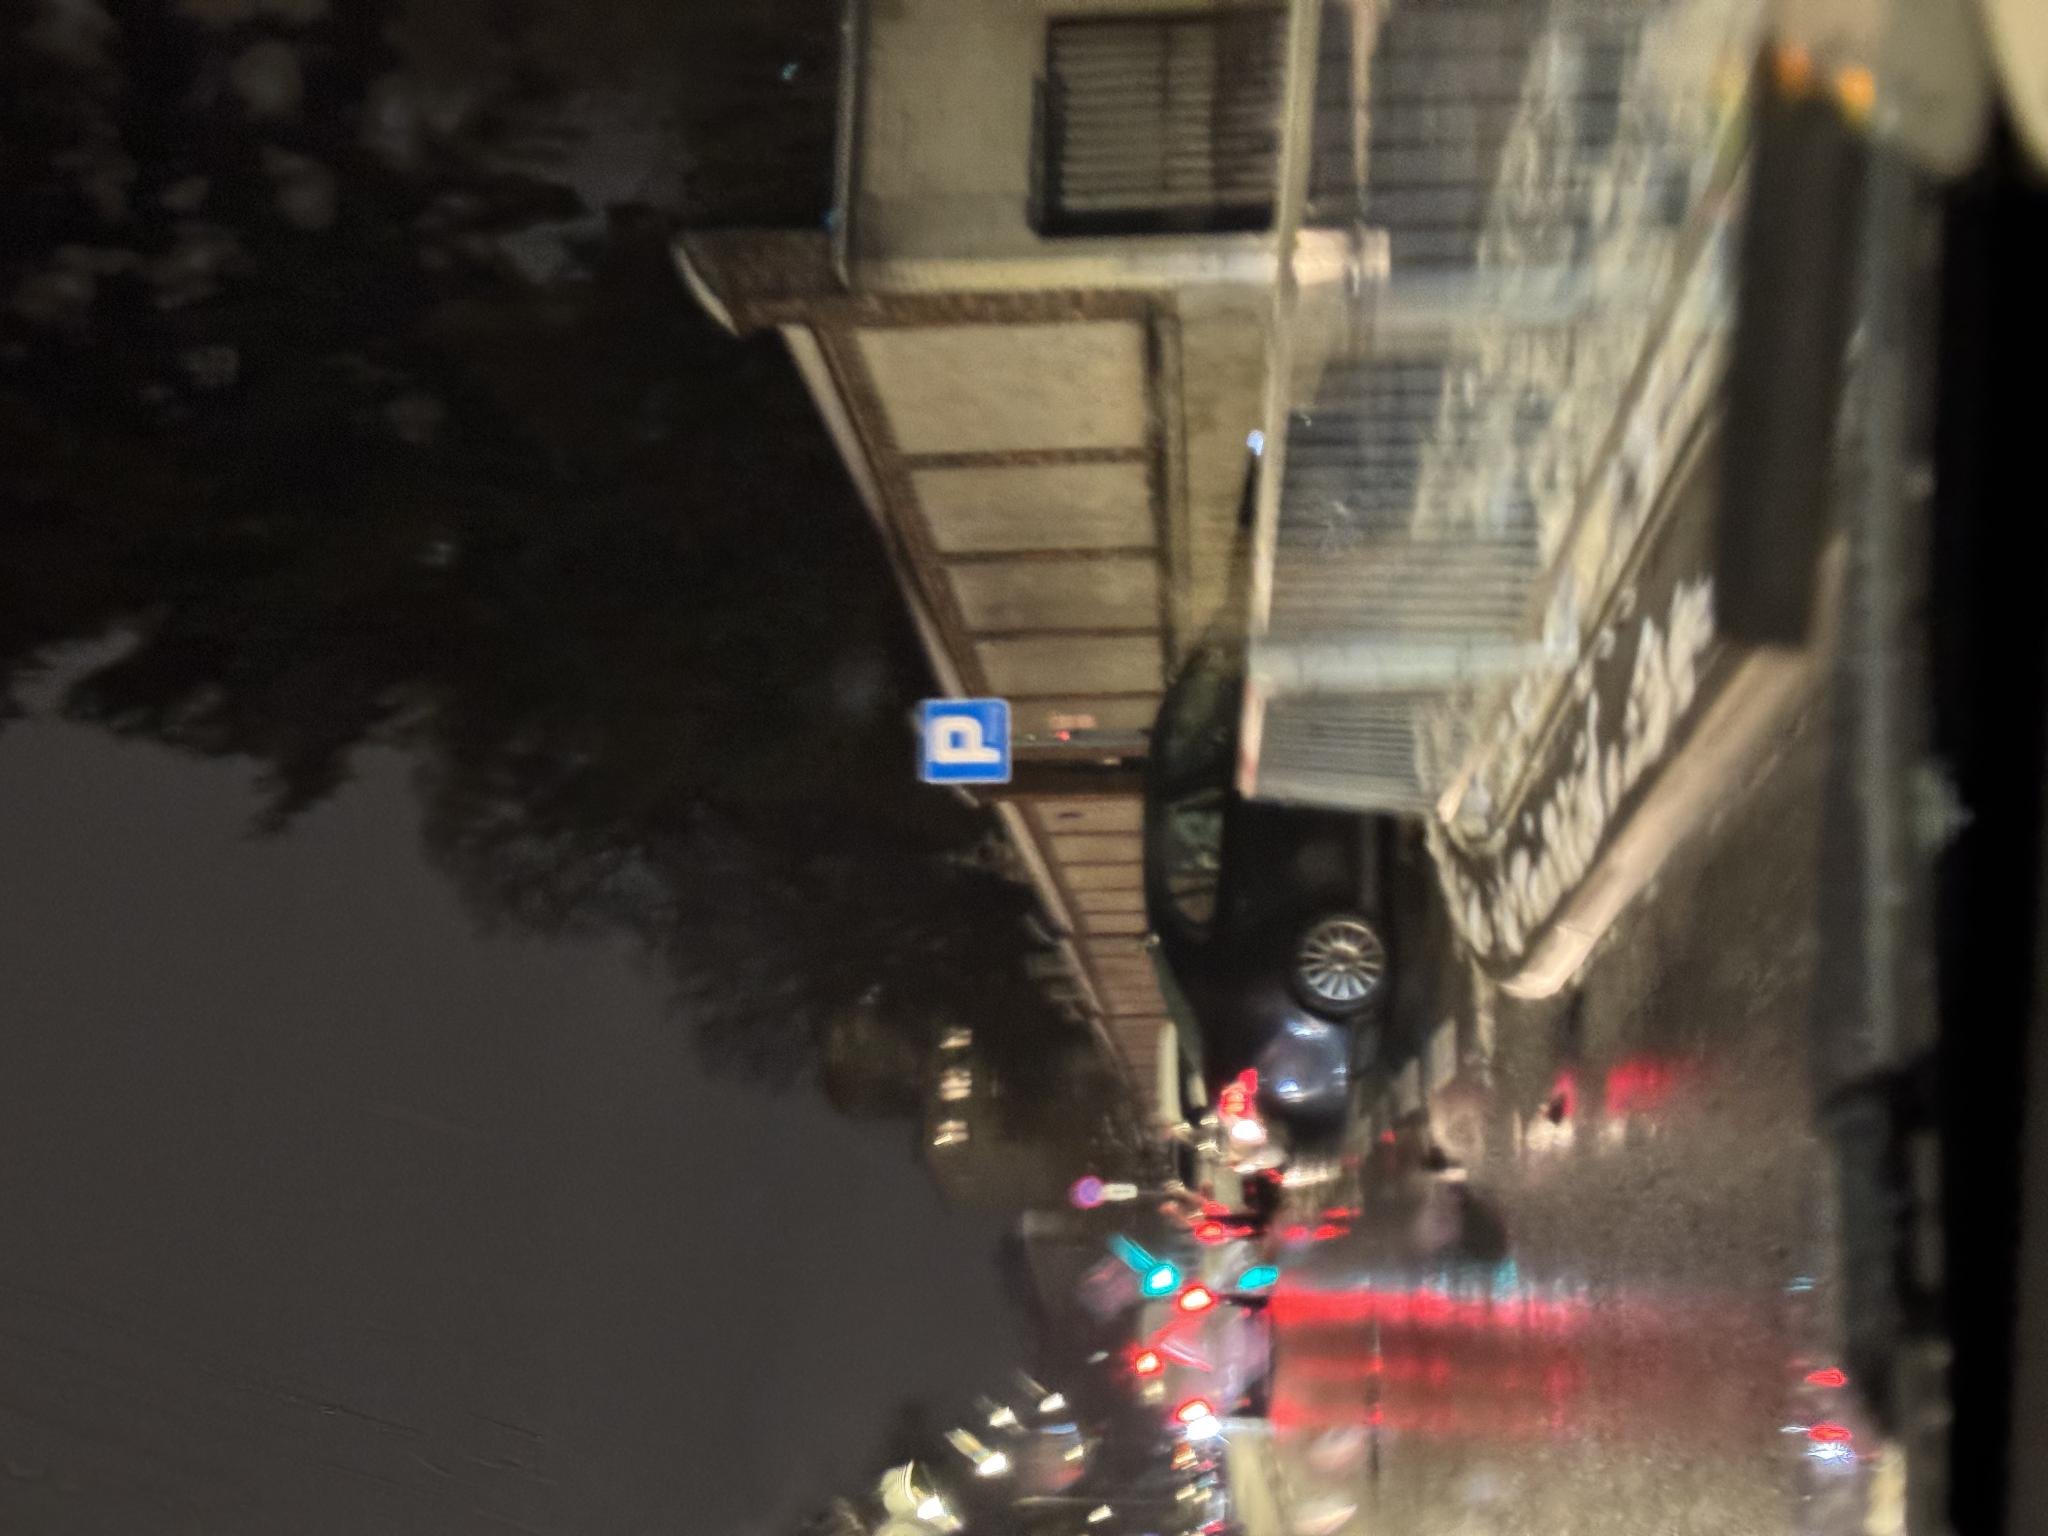information: (752, 919, 838, 1011)
other: (336, 1108, 352, 1138)
prohibitory: (329, 1078, 359, 1106)
